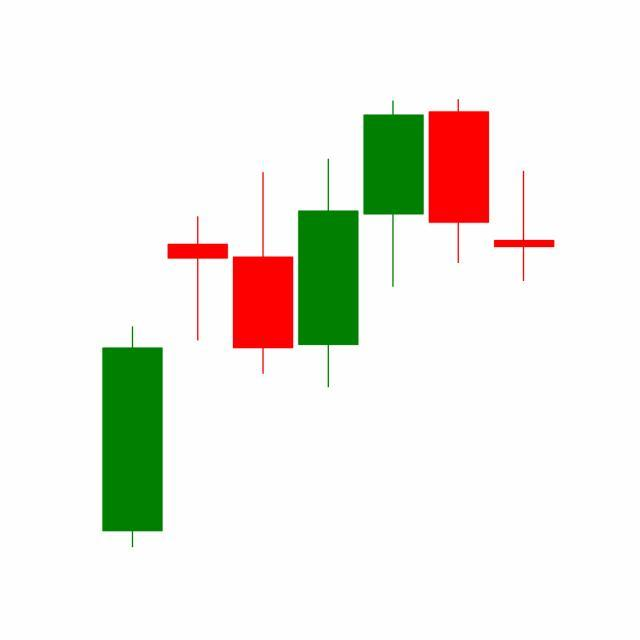Three Outside Up-Down: (360, 100, 556, 292)
